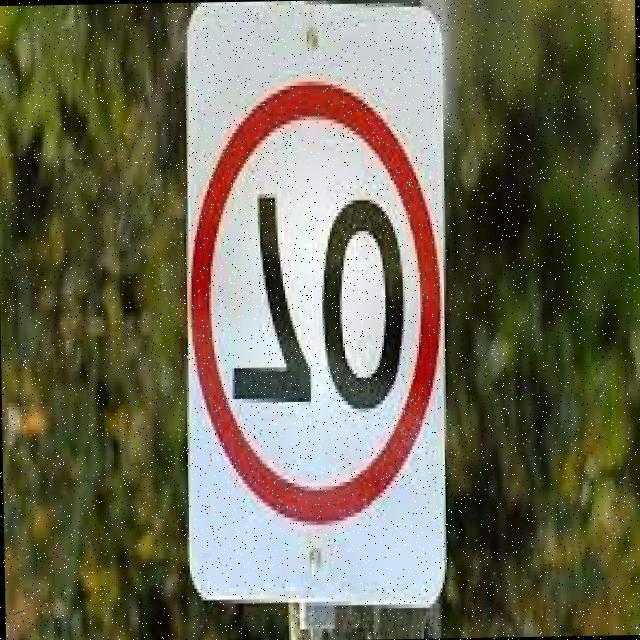speed_limit_70: (186, 76, 448, 537)
